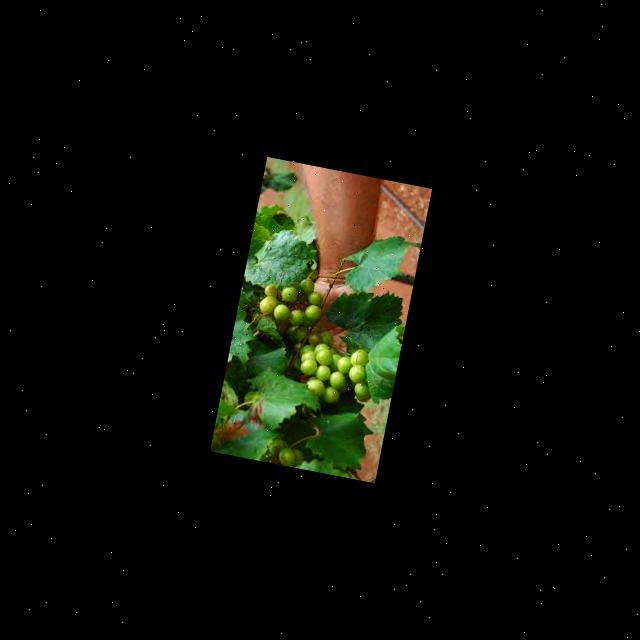grape: (241, 270, 389, 412)
